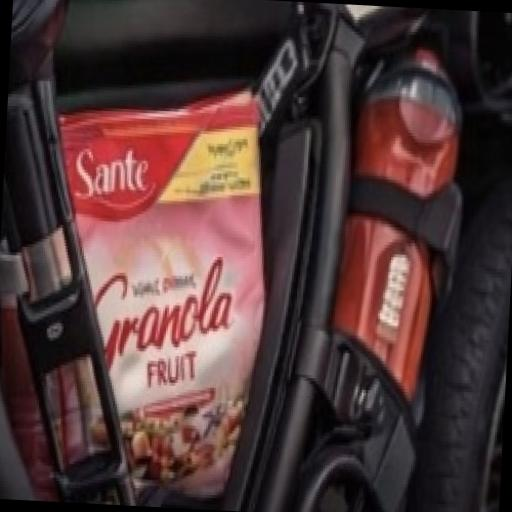granola: (0, 64, 306, 501)
